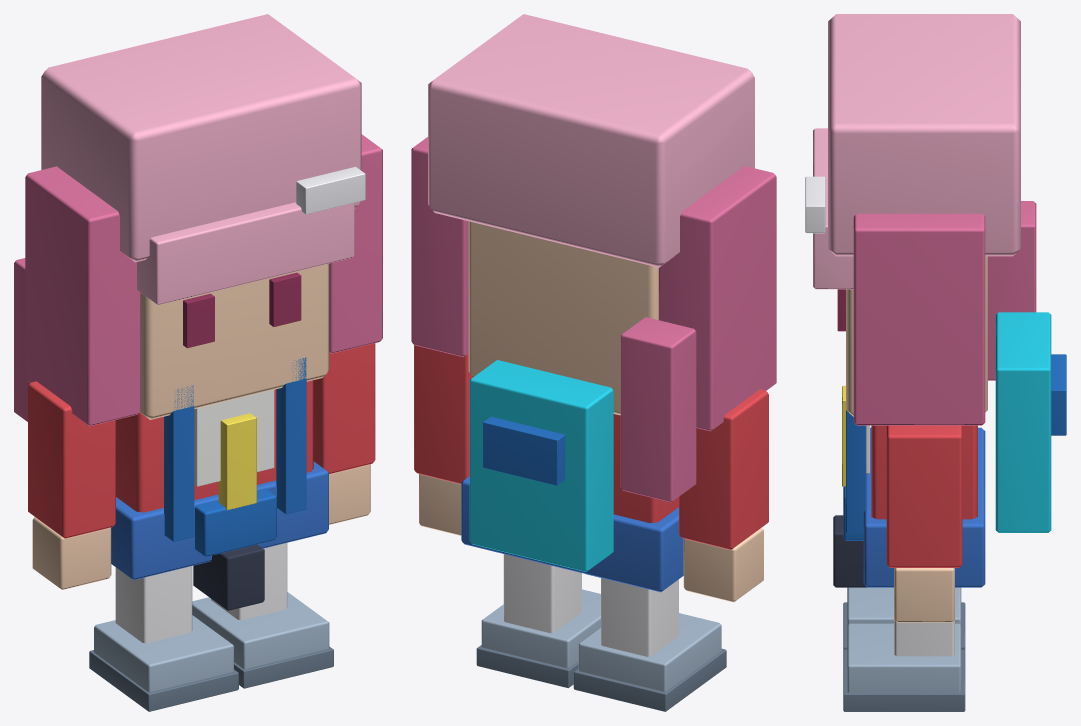
File: player-nendoroid-2head-2026-09-01.glb
3 renders of one model, left to right at view 1: azimuth 30°, elevation 25°; view 2: azimuth 150°, elevation 25°; view 3: azimuth 270°, elevation 25°, orthographic. The views are drawn at different scales.
Visible parts, largest first — view 1: player__hair_top, player__hair_left_side, player__head_face, player__hair_front_bangs, player__sleeve_left, player__hair_right_side, player__skirt, player__sleeve_right, player__shoe_left_top, player__body_blazer, player__shoe_right_top, player__leg_left (+15 smaller); view 2: player__hair_top, player__head_face, player__backpack, player__hair_left_side, player__hair_back_tail, player__sleeve_left, player__hair_right_side, player__sleeve_right, player__skirt, player__shoe_left_top, player__leg_left, player__leg_right (+7 smaller); view 3: player__hair_top, player__hair_right_side, player__backpack, player__sleeve_right, player__shoe_right_top, player__skirt, player__hair_back_tail, player__hand_right, player__body_blazer, player__shoe_right_sole, player__hair_front_bangs, player__strap_right (+7 smaller).
Boxes of the visible parts, x1,y1,x2,y2 form: player__hair_top: [41, 14, 361, 262]; player__hair_left_side: [25, 166, 140, 426]; player__head_face: [140, 263, 329, 419]; player__hair_front_bangs: [137, 202, 354, 304]; player__sleeve_left: [28, 381, 115, 538]; player__hair_right_side: [329, 134, 382, 353]; player__skirt: [111, 461, 328, 580]; player__sleeve_right: [313, 343, 375, 474]; player__shoe_left_top: [94, 615, 233, 691]; player__body_blazer: [116, 380, 313, 512]; player__shoe_right_top: [192, 592, 329, 668]; player__leg_left: [115, 566, 192, 643]; player__hair_top: [428, 14, 754, 267]; player__head_face: [468, 221, 658, 415]; player__backpack: [469, 360, 613, 571]; player__hair_left_side: [658, 166, 776, 431]; player__hair_back_tail: [620, 317, 696, 502]; player__sleeve_left: [679, 389, 768, 549]; player__hair_right_side: [411, 137, 468, 357]; player__sleeve_right: [414, 345, 472, 483]; player__skirt: [461, 476, 683, 592]; player__shoe_left_top: [578, 613, 721, 691]; player__leg_left: [601, 578, 678, 656]; player__leg_right: [503, 554, 581, 633]; player__hair_top: [828, 14, 1020, 256]; player__hair_right_side: [853, 213, 985, 425]; player__backpack: [995, 312, 1051, 532]; player__sleeve_right: [886, 425, 962, 567]; player__shoe_right_top: [847, 623, 961, 692]; player__skirt: [863, 427, 985, 587]; player__hair_back_tail: [988, 201, 1036, 380]; player__hand_right: [894, 568, 954, 622]; player__body_blazer: [871, 425, 977, 519]; player__shoe_right_sole: [843, 649, 965, 711]; player__hair_front_bangs: [813, 128, 853, 289]; player__strap_right: [846, 410, 866, 533].
Bounding box in the file's own units: 1.45 × 2.6 × 1.03.
